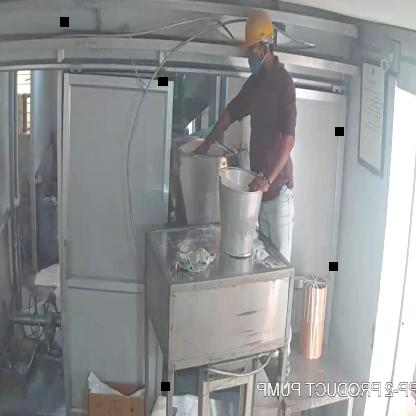helmet: (238, 4, 278, 60)
